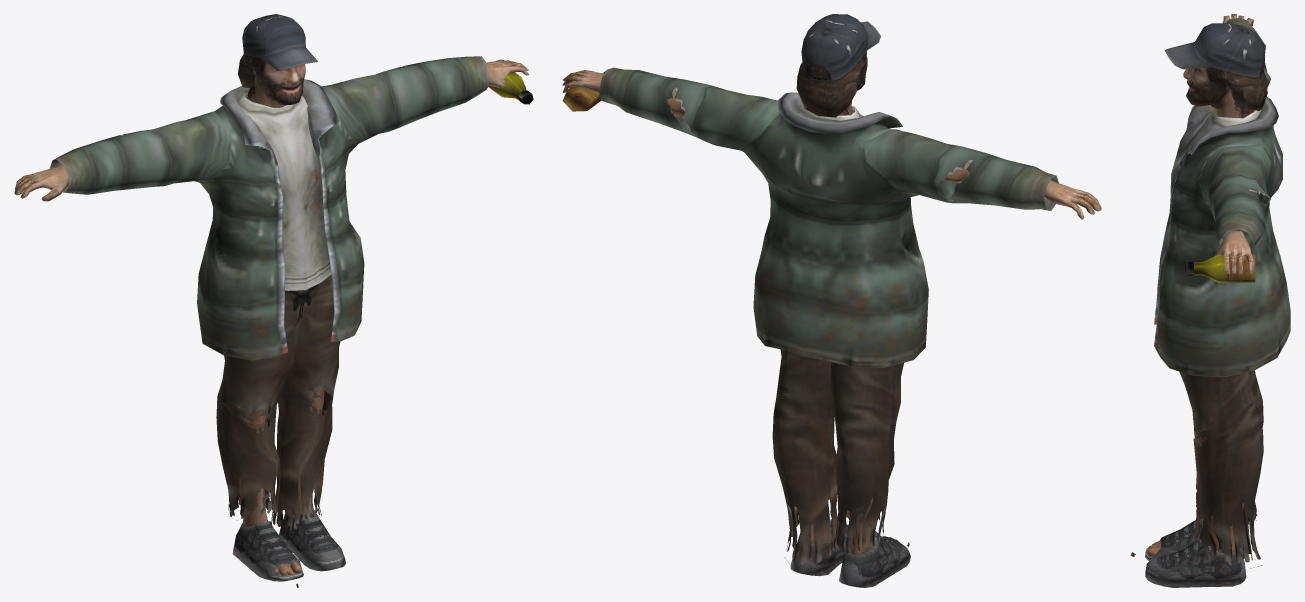
The model's file is OllieGeo.fbx.
The picture shows the model from 3 angles, left to right: view 1: azimuth 30°, elevation 25°; view 2: azimuth 150°, elevation 25°; view 3: azimuth 270°, elevation 25°; orthographic projection. The views are drawn at different scales.
Visible parts, largest first — view 1: Ollie_Geometry; view 2: Ollie_Geometry; view 3: Ollie_Geometry.
Boxes of the visible parts, left/top/right/bottom form: Ollie_Geometry: left=14, top=14, right=533, bottom=587; Ollie_Geometry: left=562, top=14, right=1101, bottom=587; Ollie_Geometry: left=1130, top=14, right=1290, bottom=587.
Bounding box in the file's own units: 71.91 × 71.11 × 19.04.
8 materials, 8 textured.
